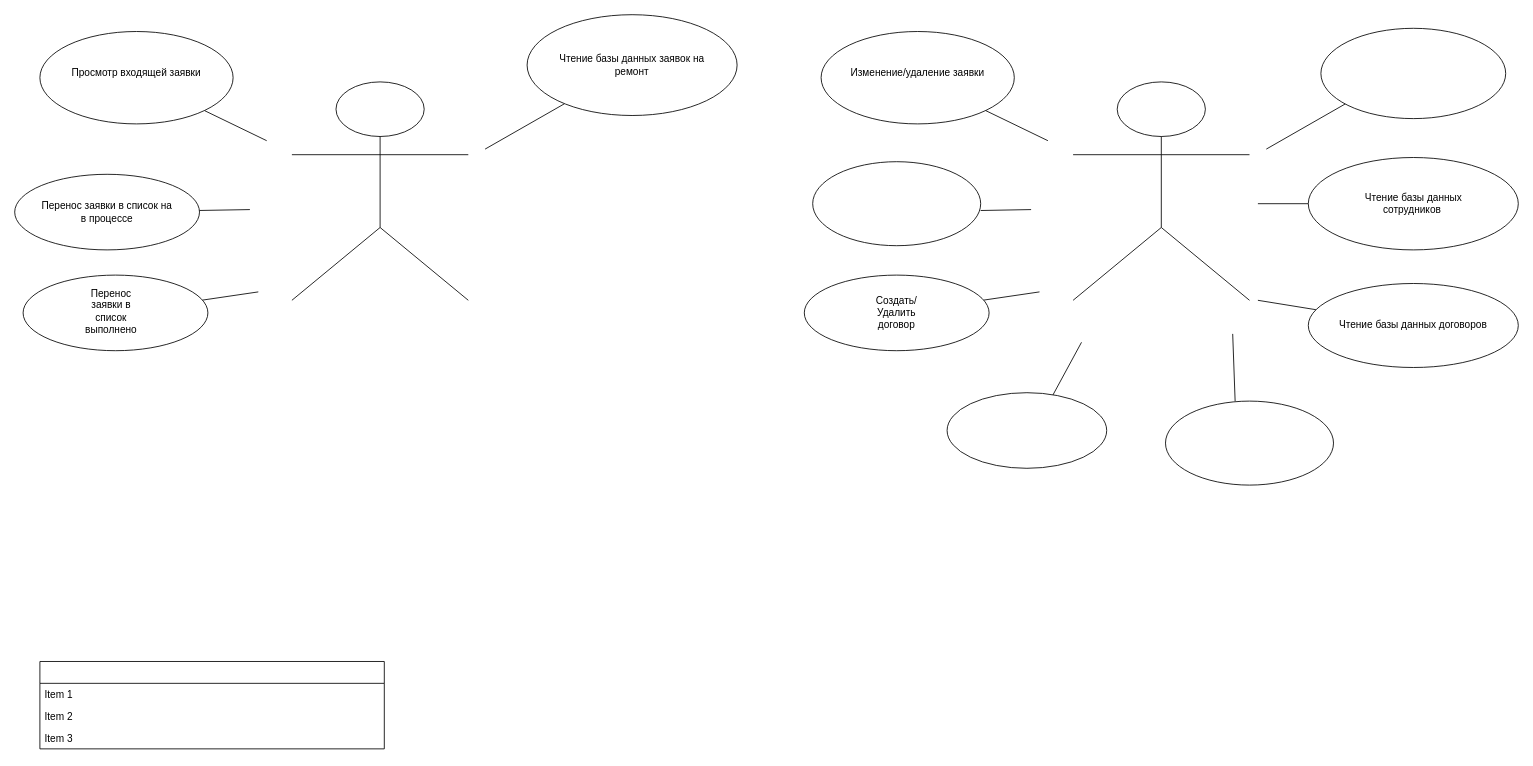
Image size: 1533x766. Some labels were removed from this diagram. The box of each missing label's shape, as (x1, y1, x2, y2) in pixels:
Client: (1072, 81, 1250, 300)
List: (39, 661, 384, 749)
Manager: (291, 81, 468, 300)
